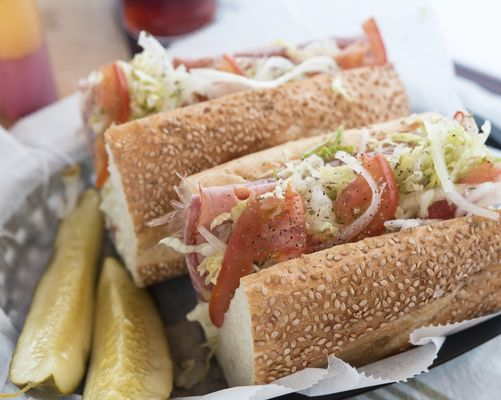soup: (81, 25, 408, 292)
